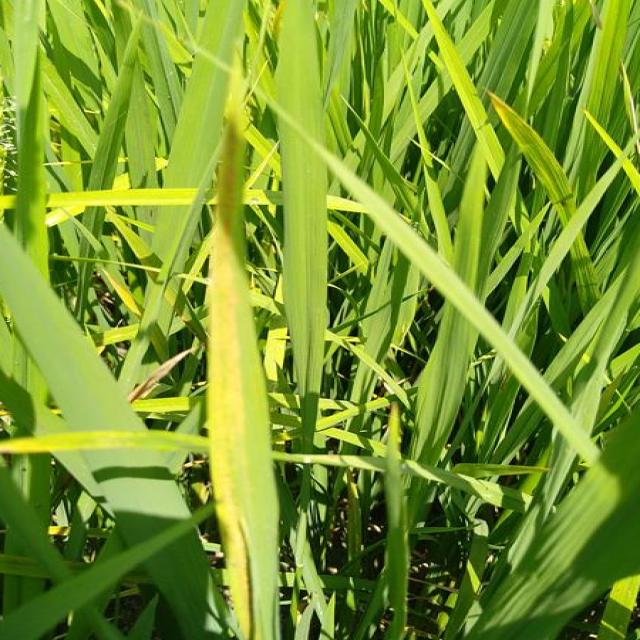Leaf Streak: (206, 131, 255, 640)
